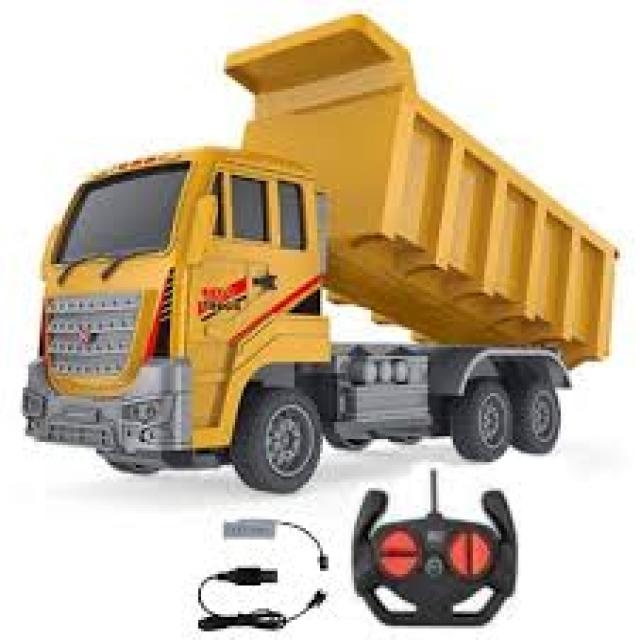dump_truck: (26, 12, 620, 492)
